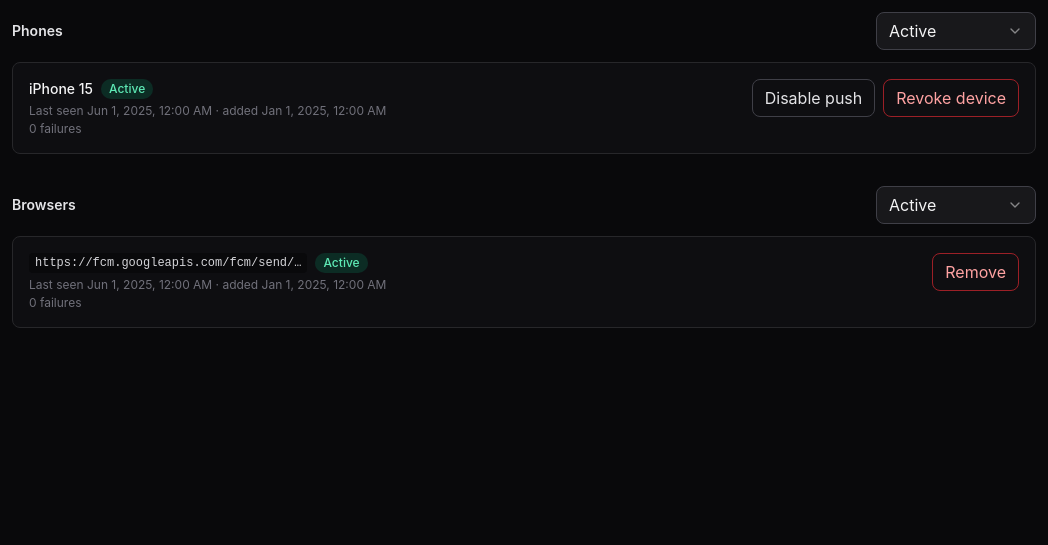
SubscribersPanel › renders both sections with their active rows by default and all rows when the filter is widened
Expected: the heading "Phones" is shown, [12,21,63,41]
Expected: the text "iPhone 15" is shown, [29,79,93,99]
// Widen the phones filter to All — history rows appear.
Step 1. Click the button with aria-label "Phones status filter" → point(956, 31), box [876,12,1036,50]
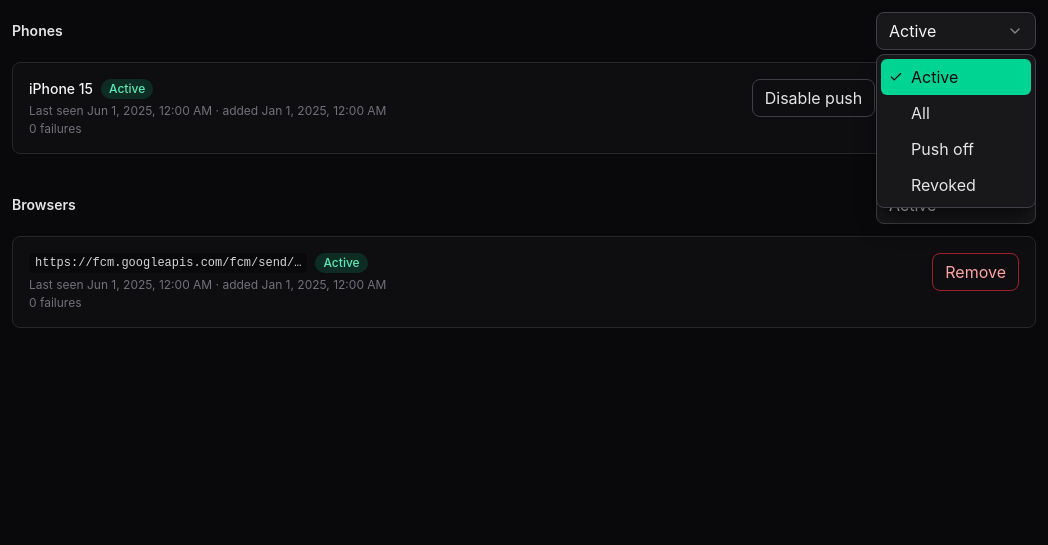
Step 2. Click the option "All" → point(956, 113), box [881,95,1031,131]
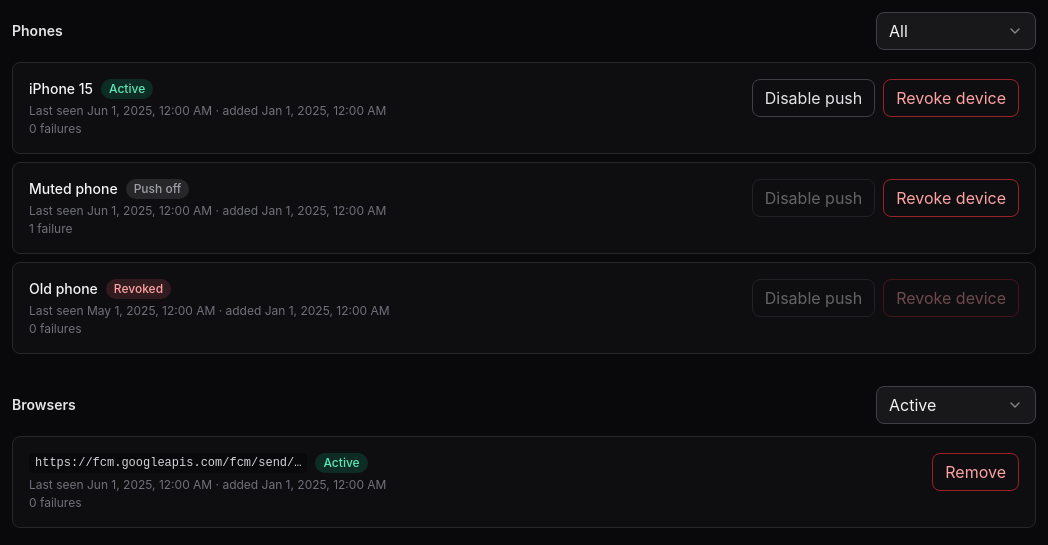
Result: the text "Muted phone" is shown at [29,179,118,199]
Result: the text "Old phone" is shown at [29,279,98,299]
